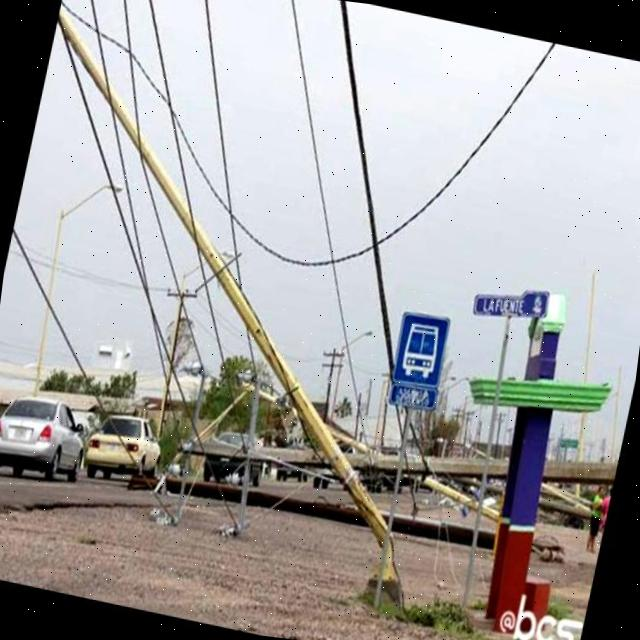Broken Pole: (57, 4, 408, 601), (147, 356, 615, 536), (413, 472, 497, 524)
